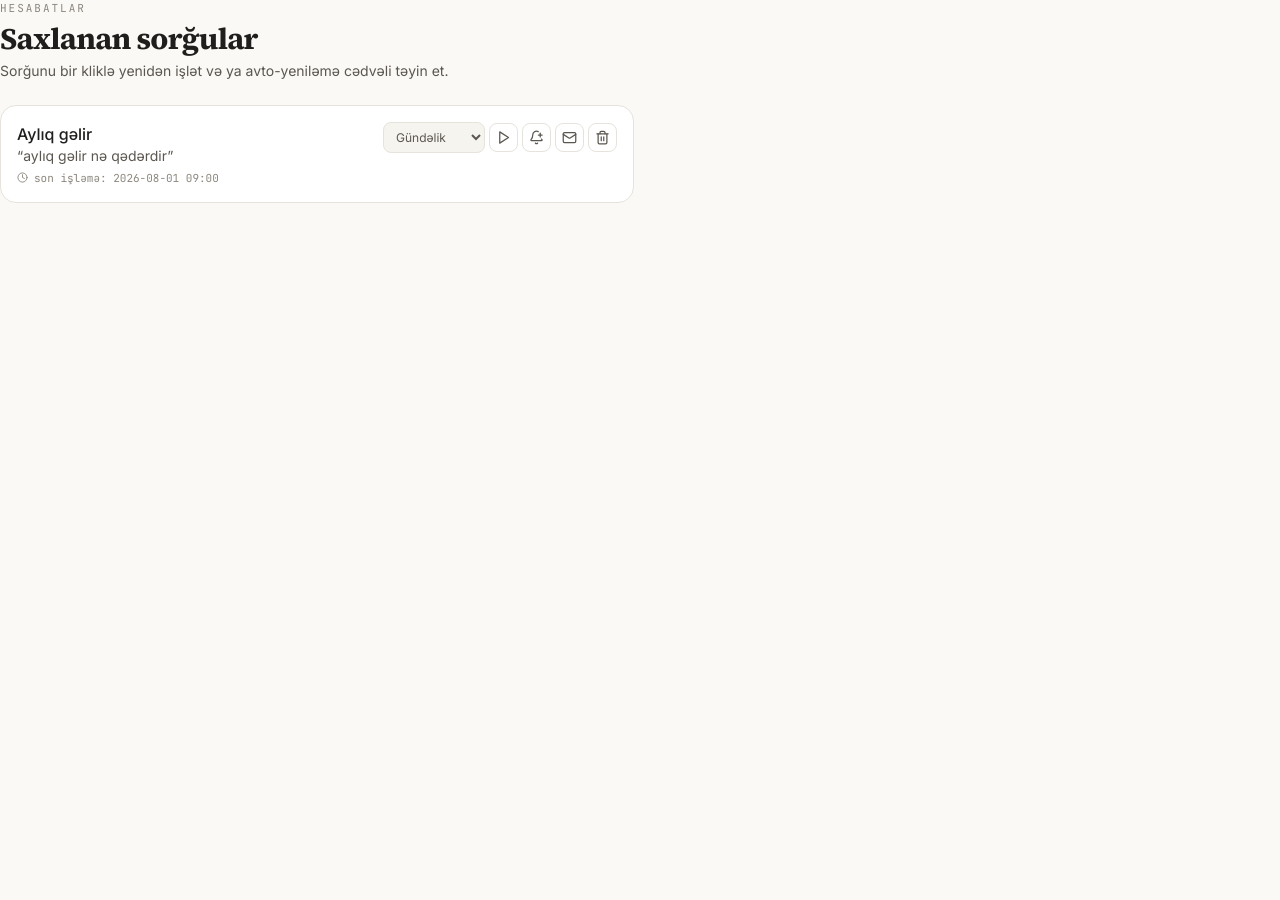
Scenario: DeliveryModal delete › drops the row once the server confirms
What coordinates should you click on to do the following:
click the button titled "PDF/Excel çatdırılması"
I would click on:
 (570, 137)
Its box is x1=555 y1=122 x2=584 y2=152.
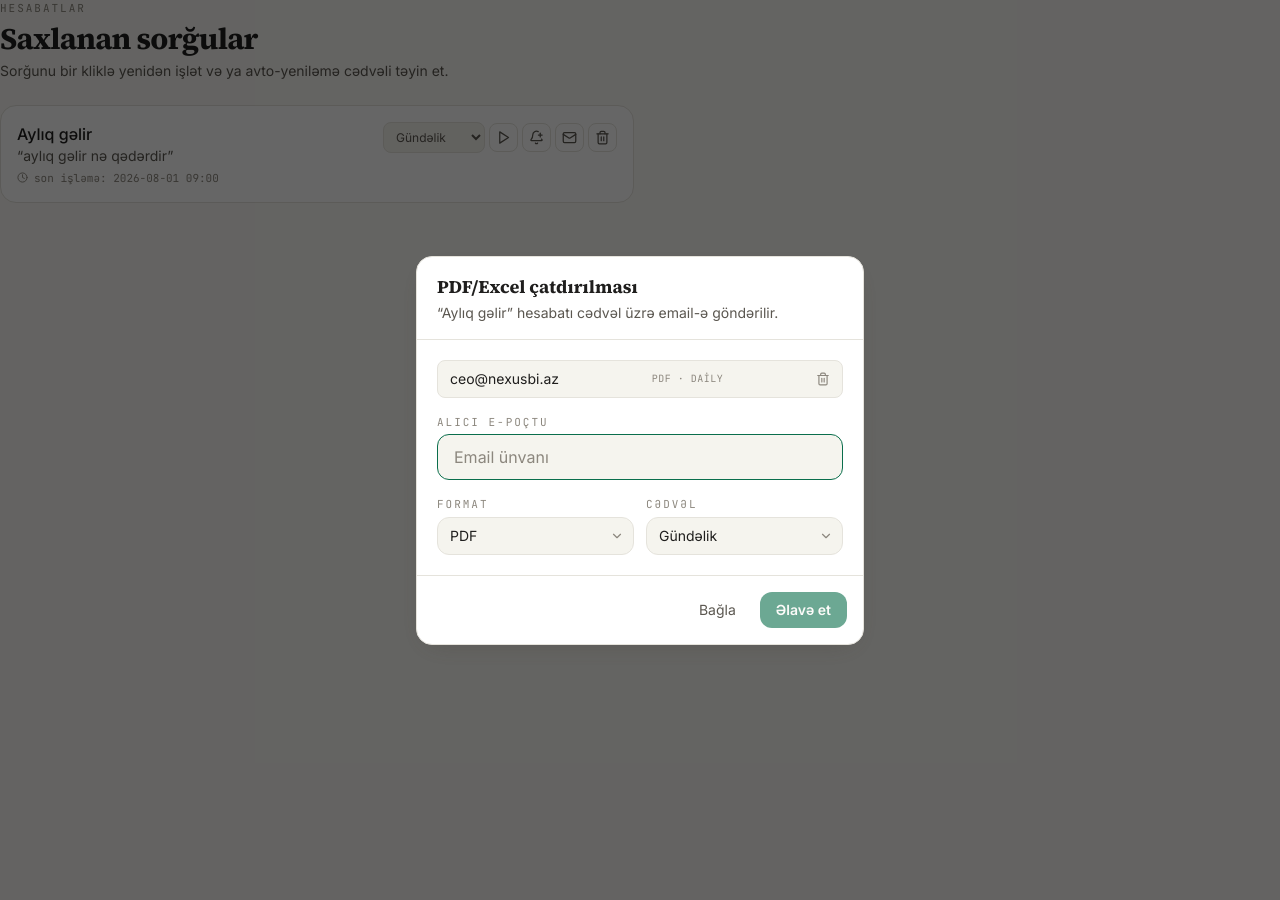
What coordinates should you click on to do the following:
click the button named "Sil"
I would click on:
 (823, 378)
Its box is x1=816 y1=372 x2=830 y2=386.
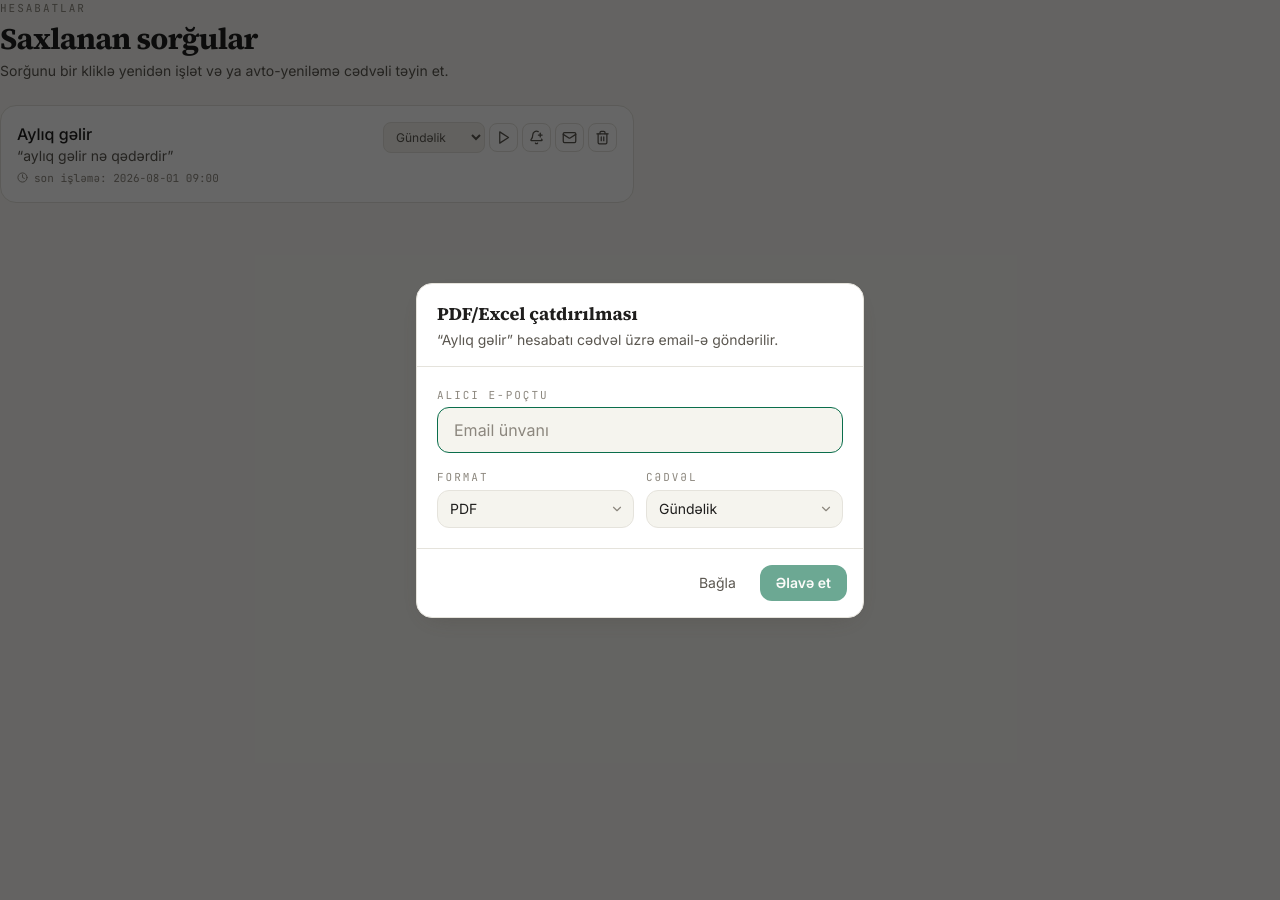
Result: the text "ceo@nexusbi.az" is gone
